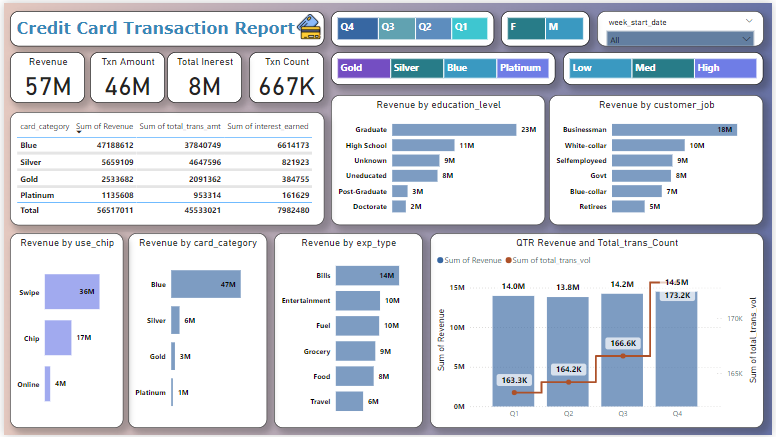

This screenshot's page, from the dashboard's own definition file:
{"tool":"powerbi","page":{"name":"Credit_Card_Transaction_Report","canvas":[1280,720],"ordinal":0},"visuals":[{"type":"textbox","box":[10.1,13,524.2,59],"z":0},{"type":"lineStackedColumnComboChart","title":"QTR Revenue and Total_trans_Count","fields":{"Category":["public credit_card.qtr"],"Y":["Sum(public credit_card.Revenue)"],"Y2":["Sum(public credit_card.total_trans_vol)"]},"box":[709.9,383,555.8,325.4],"z":1000},{"type":"barChart","title":"Revenue by exp_type","fields":{"Y":["Sum(public credit_card.Revenue)"],"Category":["public credit_card.exp_type"]},"box":[450.7,383,247.7,325.4],"z":2000},{"type":"barChart","title":"Revenue by education_level","fields":{"Category":["public customer.education_level"],"Y":["Sum(public credit_card.Revenue)"]},"box":[544.3,152.6,357.1,217.4],"z":3000},{"type":"barChart","title":" Revenue by customer_job","fields":{"Y":["Sum(public credit_card.Revenue)"],"Category":["public customer.customer_job"]},"box":[908.6,152.6,357.1,217.4],"z":4000},{"type":"barChart","title":" Revenue by card_category","fields":{"Category":["public credit_card.card_category"],"Y":["Sum(public credit_card.Revenue)"]},"box":[207.4,383,231.8,325.4],"z":5000},{"type":"barChart","title":"Revenue by use_chip","fields":{"Category":["public credit_card.use_chip"],"Y":["Sum(public credit_card.Revenue)"]},"box":[10.1,383,188.6,325.4],"z":6000},{"type":"tableEx","fields":{"Values":["public credit_card.card_category","Sum(public credit_card.Revenue)","Sum(public credit_card.total_trans_amt)","Sum(public credit_card.interest_earned)"]},"box":[10.1,181.4,524.2,188.6],"z":7000},{"type":"card","title":"Revenue","fields":{"Values":["Sum(public credit_card.Revenue)"]},"box":[10.1,82.1,125.3,85],"z":8000},{"type":"card","title":"Txn Amount","fields":{"Values":["Sum(public credit_card.total_trans_amt)"]},"box":[144,82.1,125.3,85],"z":9000},{"type":"card","title":"Txn Count","fields":{"Values":["Sum(public credit_card.total_trans_vol)"]},"box":[409,82.1,125.3,85],"z":10000},{"type":"card","title":"Total Inerest","fields":{"Values":["Sum(public credit_card.interest_earned)"]},"box":[272.2,82.1,125.3,85],"z":11000},{"type":"image","box":[472.3,13,72,51.8],"z":12000},{"type":"slicer","fields":{"Values":["public credit_card.week_start_date"]},"box":[987.8,13,277.9,59],"z":13000},{"type":"treemap","fields":{"Group":["public credit_card.qtr"],"Values":["Avg(public credit_card.client_num)"]},"box":[544.3,13,272.2,59],"z":14000},{"type":"treemap","fields":{"Values":["Avg(public credit_card.client_num)"],"Group":["public customer.gender"]},"box":[828,13,148.3,59],"z":15000},{"type":"treemap","fields":{"Values":["Avg(public credit_card.client_num)"],"Group":["public credit_card.card_category"]},"box":[544.3,82.1,374.4,54.7],"z":16000},{"type":"treemap","fields":{"Values":["Avg(public credit_card.client_num)"],"Group":["public customer.Income_Group"]},"box":[931.7,82.1,334.1,54.7],"z":17000}]}

Visuals, with their boxes in screenshot pixels (x1, y1, x2, y2), scaled from the page's 1280x720 canvas onto the 776x437 screenshot:
textbox: [left=6, top=8, right=324, bottom=44]
"QTR Revenue and Total_trans_Count" lineStackedColumnComboChart: [left=430, top=232, right=767, bottom=430]
"Revenue by exp_type" barChart: [left=273, top=232, right=423, bottom=430]
"Revenue by education_level" barChart: [left=330, top=93, right=546, bottom=225]
" Revenue by customer_job" barChart: [left=551, top=93, right=767, bottom=225]
" Revenue by card_category" barChart: [left=126, top=232, right=266, bottom=430]
"Revenue by use_chip" barChart: [left=6, top=232, right=120, bottom=430]
tableEx - public credit_card.card_category x Sum(public credit_card.Revenue): [left=6, top=110, right=324, bottom=225]
"Revenue" card: [left=6, top=50, right=82, bottom=101]
"Txn Amount" card: [left=87, top=50, right=163, bottom=101]
"Txn Count" card: [left=248, top=50, right=324, bottom=101]
"Total Inerest" card: [left=165, top=50, right=241, bottom=101]
image: [left=286, top=8, right=330, bottom=39]
slicer - public credit_card.week_start_date: [left=599, top=8, right=767, bottom=44]
treemap - public credit_card.qtr x Avg(public credit_card.client_num): [left=330, top=8, right=495, bottom=44]
treemap - Avg(public credit_card.client_num) x public customer.gender: [left=502, top=8, right=592, bottom=44]
treemap - Avg(public credit_card.client_num) x public credit_card.card_category: [left=330, top=50, right=557, bottom=83]
treemap - Avg(public credit_card.client_num) x public customer.Income_Group: [left=565, top=50, right=767, bottom=83]
